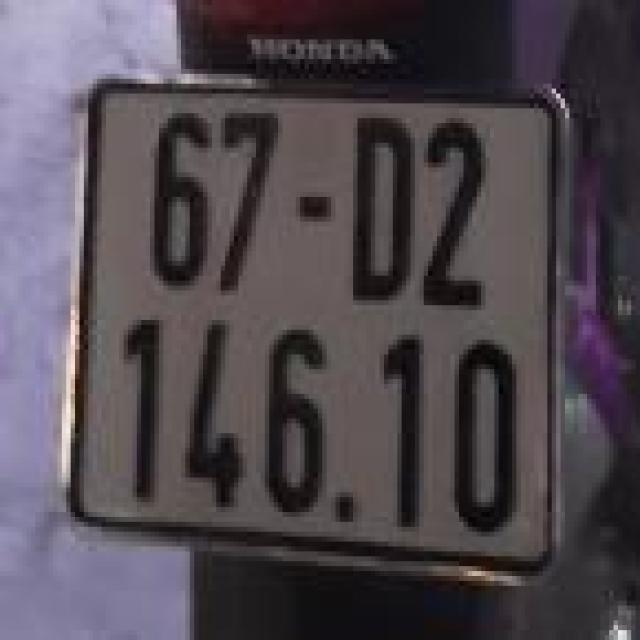0: (441, 317, 543, 549)
1: (373, 308, 430, 549), (121, 313, 166, 524)
2: (424, 101, 490, 308)
4: (179, 310, 249, 517)
6: (256, 313, 340, 524), (135, 104, 214, 290)
7: (218, 94, 280, 300)
D: (340, 103, 424, 315)
